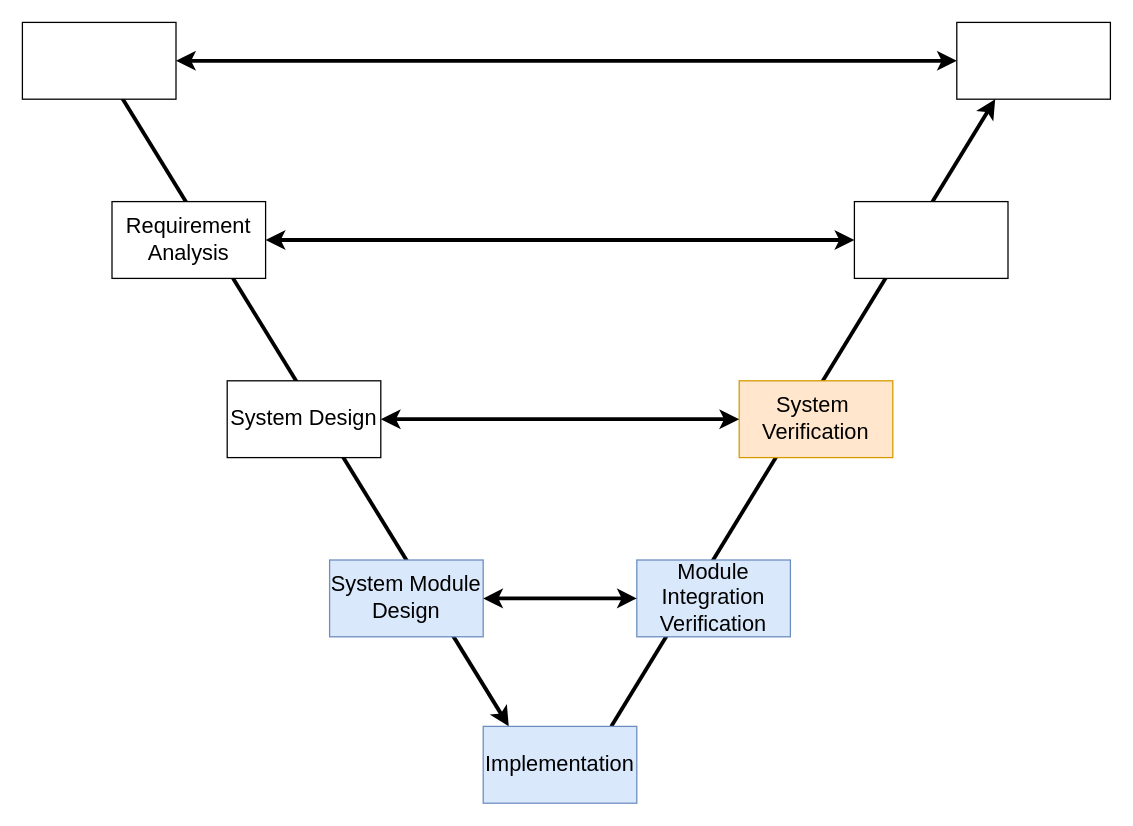
This 1133x826 diagram has some shape labels left out. Here are the shapes that lost their labels. From the top down, the centre of each, then its label:
point 98,60: Defining User Needs
point 1033,60: Acceptance Testing
point 930,239: System Validation
